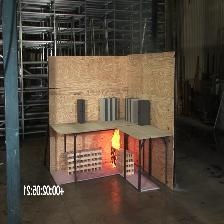fire: (105, 122, 123, 161)
